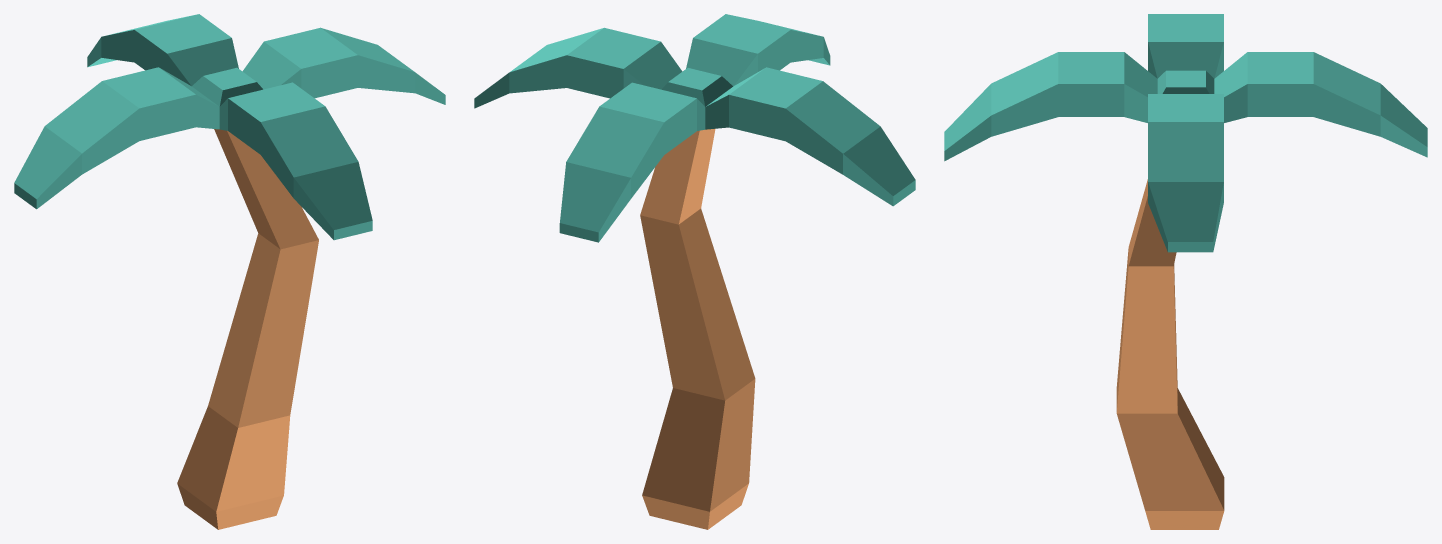
File: palm_small.obj
The picture shows the model from 3 angles, left to right: view 1: azimuth 30°, elevation 25°; view 2: azimuth 150°, elevation 25°; view 3: azimuth 270°, elevation 25°; orthographic projection.
Parts seen in each view (by area): view 1: Group 157, Group 155; view 2: Group 157, Group 155; view 3: Group 157, Group 155.
Boxes of the visible parts, left/top/right/bottom form: Group 157: left=14, top=14, right=445, bottom=240; Group 155: left=177, top=129, right=318, bottom=529; Group 157: left=474, top=14, right=915, bottom=242; Group 155: left=640, top=128, right=755, bottom=529; Group 157: left=944, top=14, right=1427, bottom=252; Group 155: left=1116, top=179, right=1224, bottom=529.
Size of the model in its own units: 7.72 by 7.88 by 7.72.
